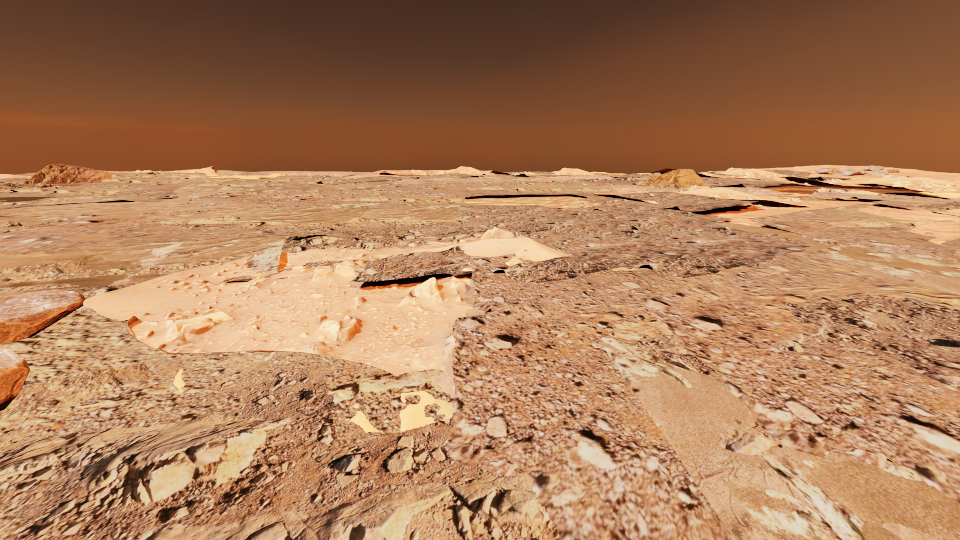bedrock: (0, 364, 559, 539), (151, 173, 817, 282), (747, 282, 959, 387), (0, 312, 171, 385), (575, 303, 721, 377), (0, 179, 177, 209), (350, 245, 486, 281), (773, 189, 959, 210), (295, 173, 544, 184), (719, 421, 788, 454), (795, 217, 921, 229), (700, 177, 791, 193), (458, 185, 613, 193), (334, 196, 474, 204), (101, 174, 217, 183), (763, 170, 850, 179), (269, 172, 360, 177), (220, 275, 256, 283), (0, 286, 39, 293), (302, 261, 342, 267), (265, 268, 291, 277), (266, 193, 321, 197), (182, 183, 242, 186), (707, 171, 737, 176), (508, 172, 537, 176), (3, 221, 26, 226), (532, 171, 554, 173)
hole: (773, 189, 816, 192)
rocks: (0, 289, 85, 342), (0, 349, 29, 410), (23, 164, 111, 183), (648, 169, 706, 185), (814, 165, 899, 175)
sand: (599, 338, 959, 539), (0, 183, 460, 232), (0, 237, 291, 294), (691, 194, 959, 254), (811, 244, 959, 294), (758, 165, 959, 183), (400, 391, 452, 430), (464, 194, 602, 208), (184, 170, 306, 178), (324, 170, 411, 178), (350, 411, 379, 432), (113, 274, 167, 285), (255, 352, 274, 374), (907, 190, 959, 197), (819, 185, 903, 189), (173, 369, 184, 392), (722, 266, 751, 274), (786, 193, 807, 195), (483, 171, 496, 174)
soil: (0, 203, 959, 539), (133, 172, 662, 213), (0, 214, 438, 254), (50, 177, 343, 190), (0, 261, 138, 283), (822, 184, 959, 196), (553, 238, 624, 253), (762, 184, 820, 194), (385, 171, 467, 178), (750, 174, 805, 184), (96, 170, 206, 175), (710, 175, 776, 183), (0, 515, 20, 539), (871, 200, 921, 209), (0, 192, 74, 197), (0, 173, 35, 183), (70, 305, 101, 316), (234, 171, 315, 175), (481, 228, 510, 239), (834, 182, 882, 187), (458, 205, 505, 210), (420, 241, 459, 247), (29, 284, 78, 288), (168, 251, 200, 255), (559, 174, 611, 176), (713, 186, 746, 189), (807, 180, 829, 184), (518, 258, 534, 262), (465, 237, 480, 241), (737, 204, 755, 207), (651, 170, 666, 173)
